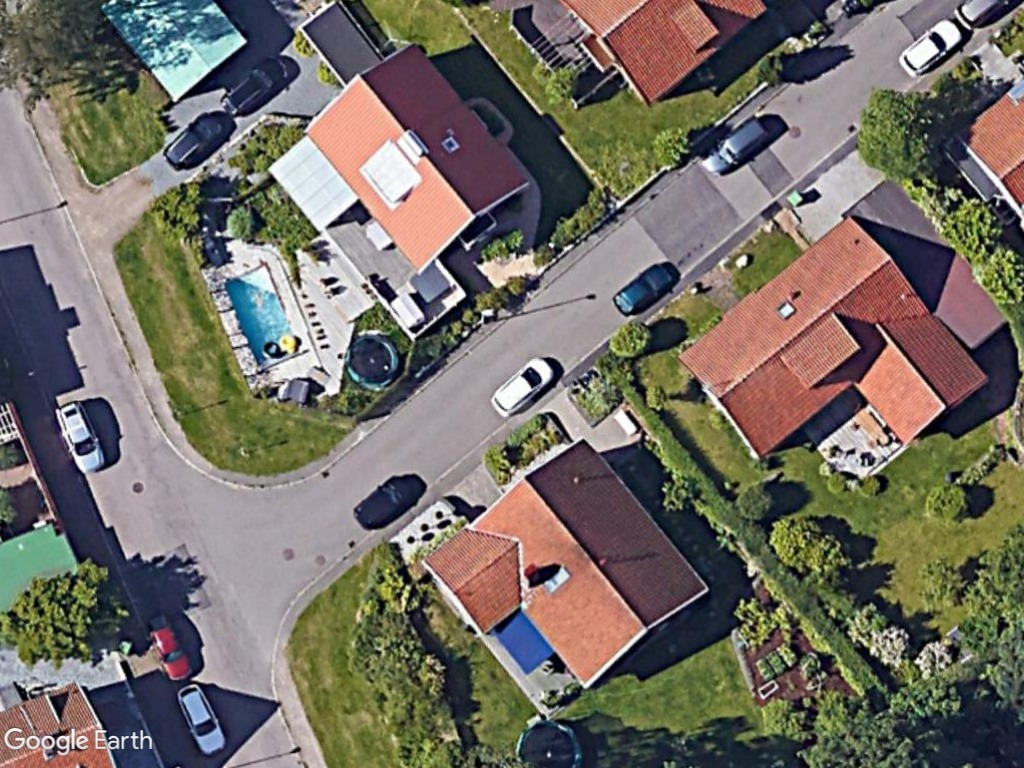car: (220, 49, 296, 120), (895, 13, 967, 80), (700, 113, 773, 179), (159, 107, 229, 174), (488, 354, 560, 419), (53, 398, 111, 478), (350, 470, 418, 535), (609, 257, 679, 320), (175, 682, 229, 759), (146, 612, 201, 686)
